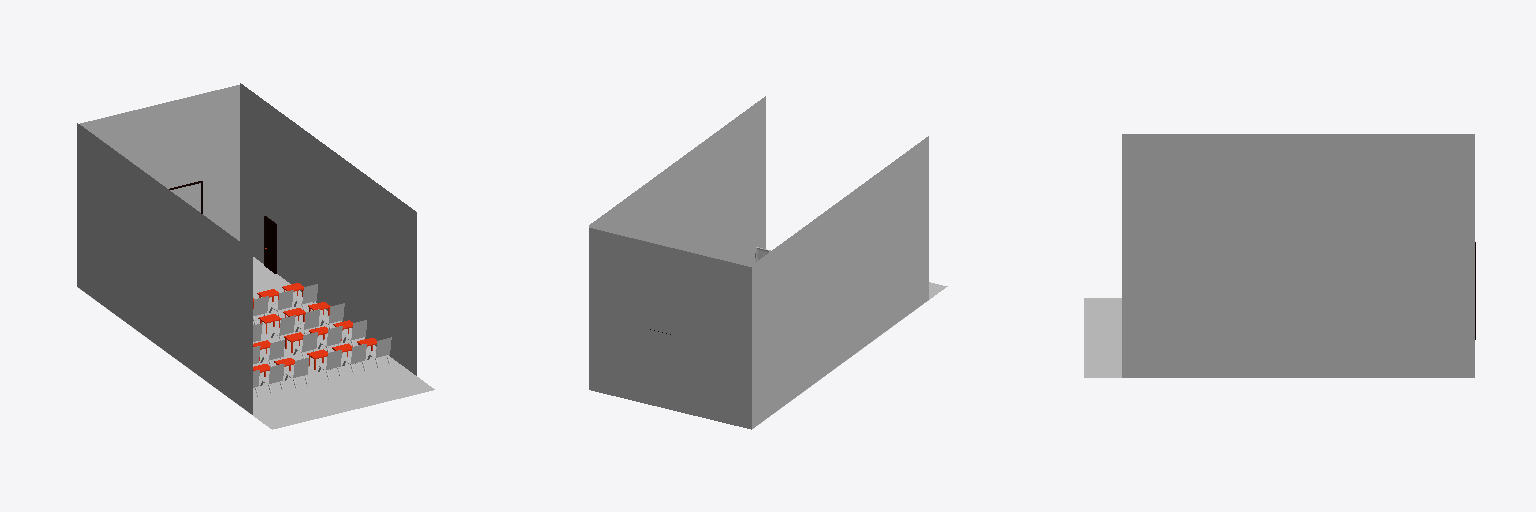
Rendered from classroom.obj.
The picture shows the model from 3 angles: view 1: azimuth 30°, elevation 25°; view 2: azimuth 150°, elevation 25°; view 3: azimuth 270°, elevation 25°; orthographic projection.
Visible parts, largest first — view 1: Plane.001, Plane.002, Plane.003, Plane, Cube.030, Plane.004; view 2: Plane.001, Plane.003, Plane.002, Plane.004; view 3: Plane.002, Plane.001, Plane.
Boxes of the visible parts, x1=… form: Plane.001: x1=77, y1=123, x2=252, y2=414; Plane.002: x1=240, y1=83, x2=416, y2=375; Plane.003: x1=80, y1=85, x2=239, y2=240; Plane: x1=79, y1=257, x2=434, y2=429; Cube.030: x1=264, y1=216, x2=276, y2=273; Plane.004: x1=169, y1=181, x2=202, y2=213; Plane.001: x1=752, y1=136, x2=928, y2=428; Plane.003: x1=589, y1=228, x2=751, y2=429; Plane.002: x1=589, y1=96, x2=765, y2=266; Plane.004: x1=626, y1=324, x2=712, y2=400; Plane.002: x1=1122, y1=214, x2=1474, y2=377; Plane.001: x1=1122, y1=134, x2=1474, y2=213; Plane: x1=1084, y1=298, x2=1121, y2=377.
Size of the model in its own units: 40 by 38.49 by 82.95.